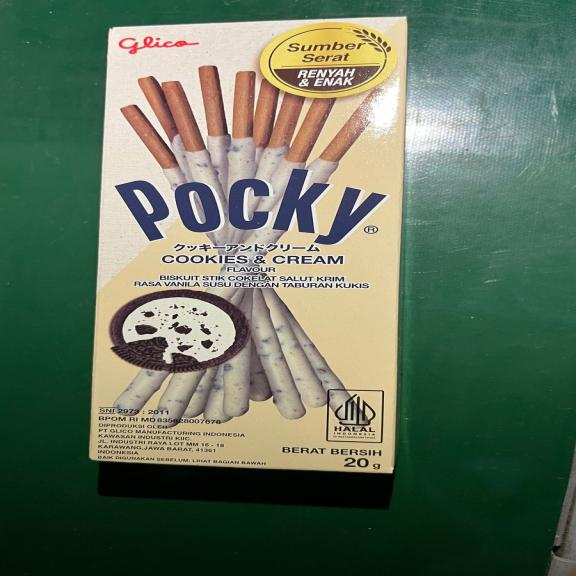Kertas: (84, 24, 406, 476)
